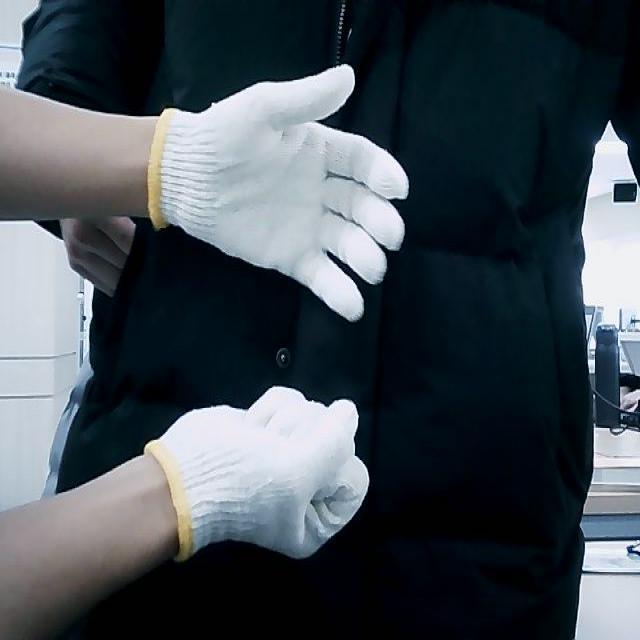gloves: (146, 63, 407, 324), (146, 387, 370, 570)
